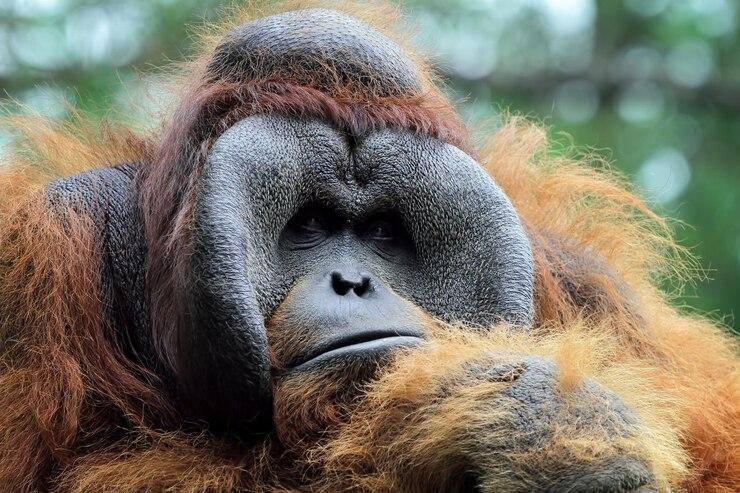gorille_Autres: (18, 0, 740, 493)
